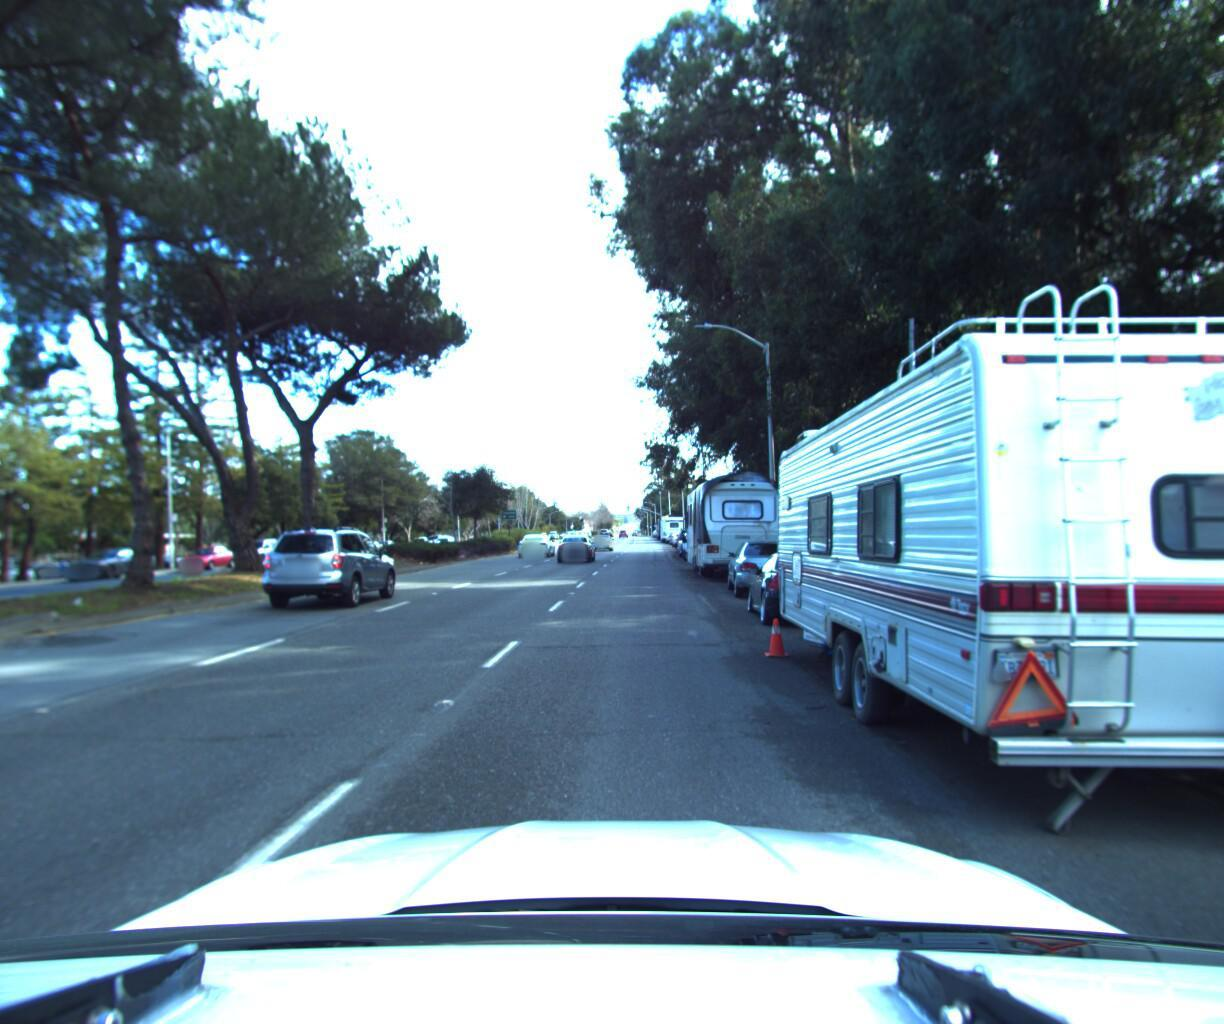car: (255, 518, 408, 610), (745, 539, 872, 628), (727, 531, 814, 598), (60, 542, 167, 582), (173, 542, 245, 574), (230, 536, 290, 566), (554, 523, 597, 559), (515, 528, 555, 555), (588, 525, 615, 548)
other_vehicle: (758, 266, 1224, 874), (681, 468, 789, 581)
